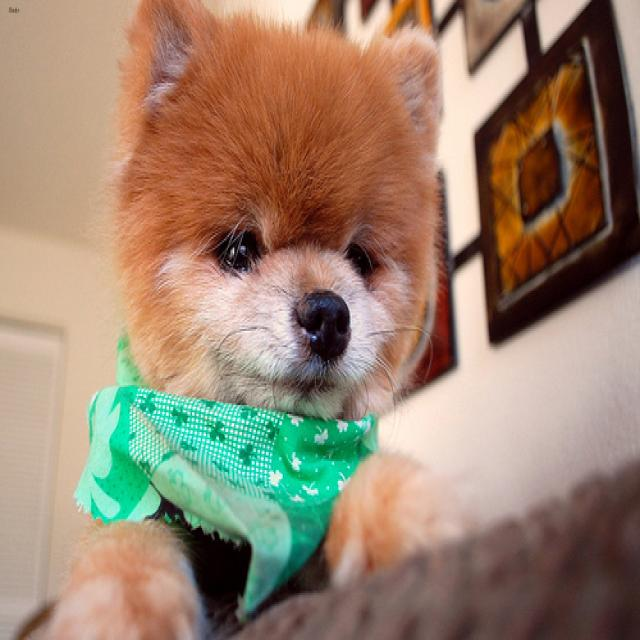dog-pomeranian: (86, 2, 458, 428)
